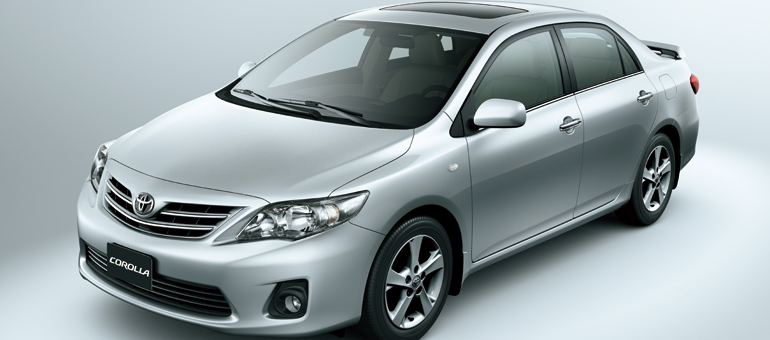Carro: (73, 1, 702, 339)
